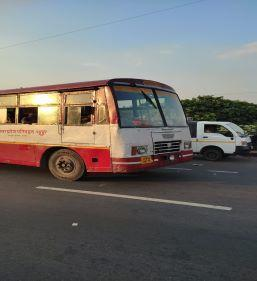Bus: (0, 78, 194, 183)
